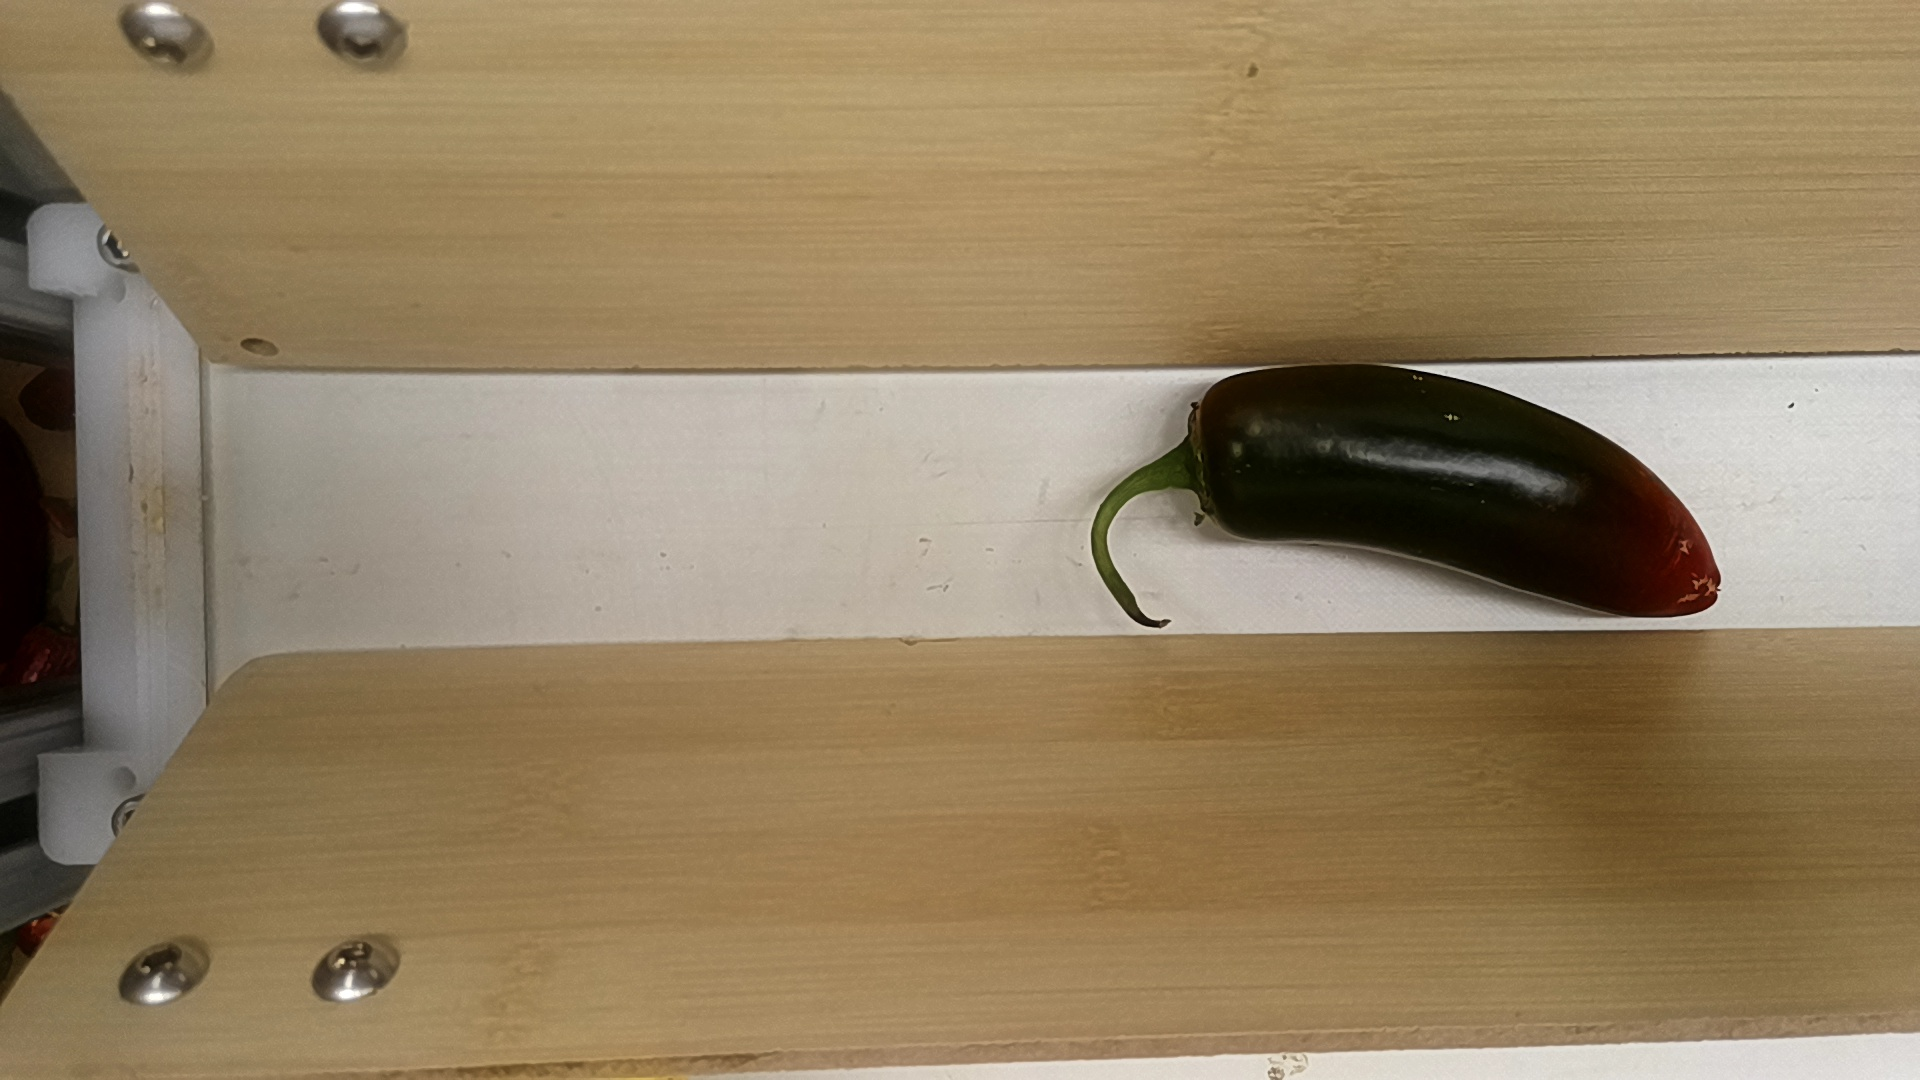Cut Point: (1174, 360, 1257, 553)
